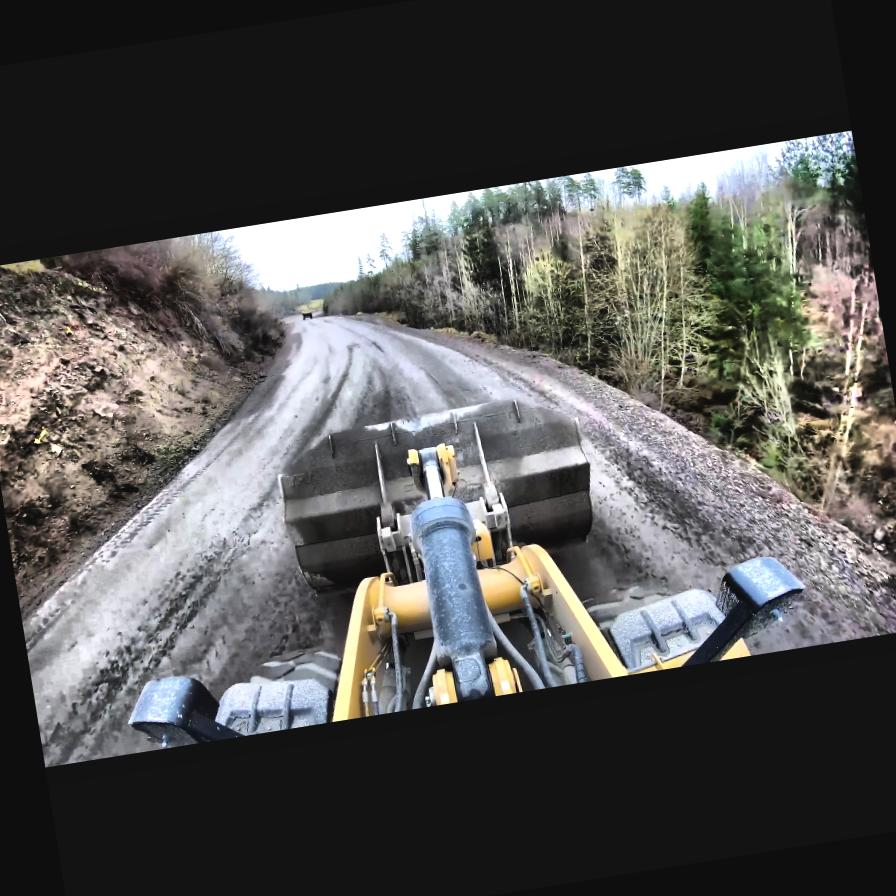anchor: (406, 440, 460, 503)
